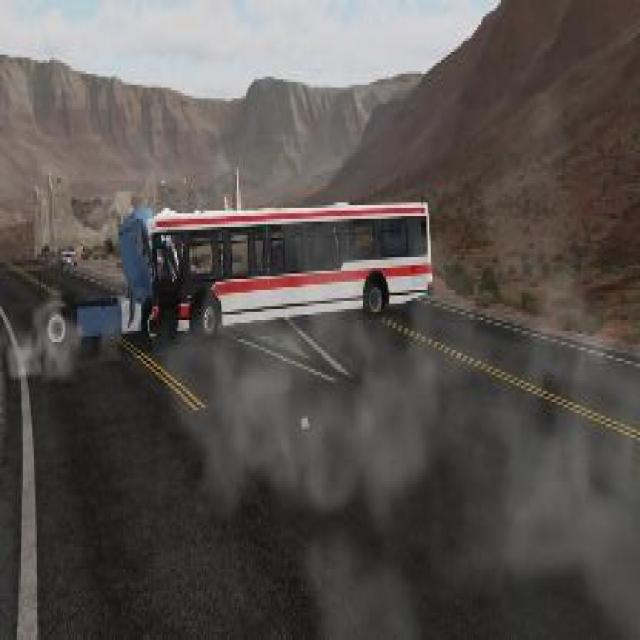accident: (18, 189, 436, 372)
